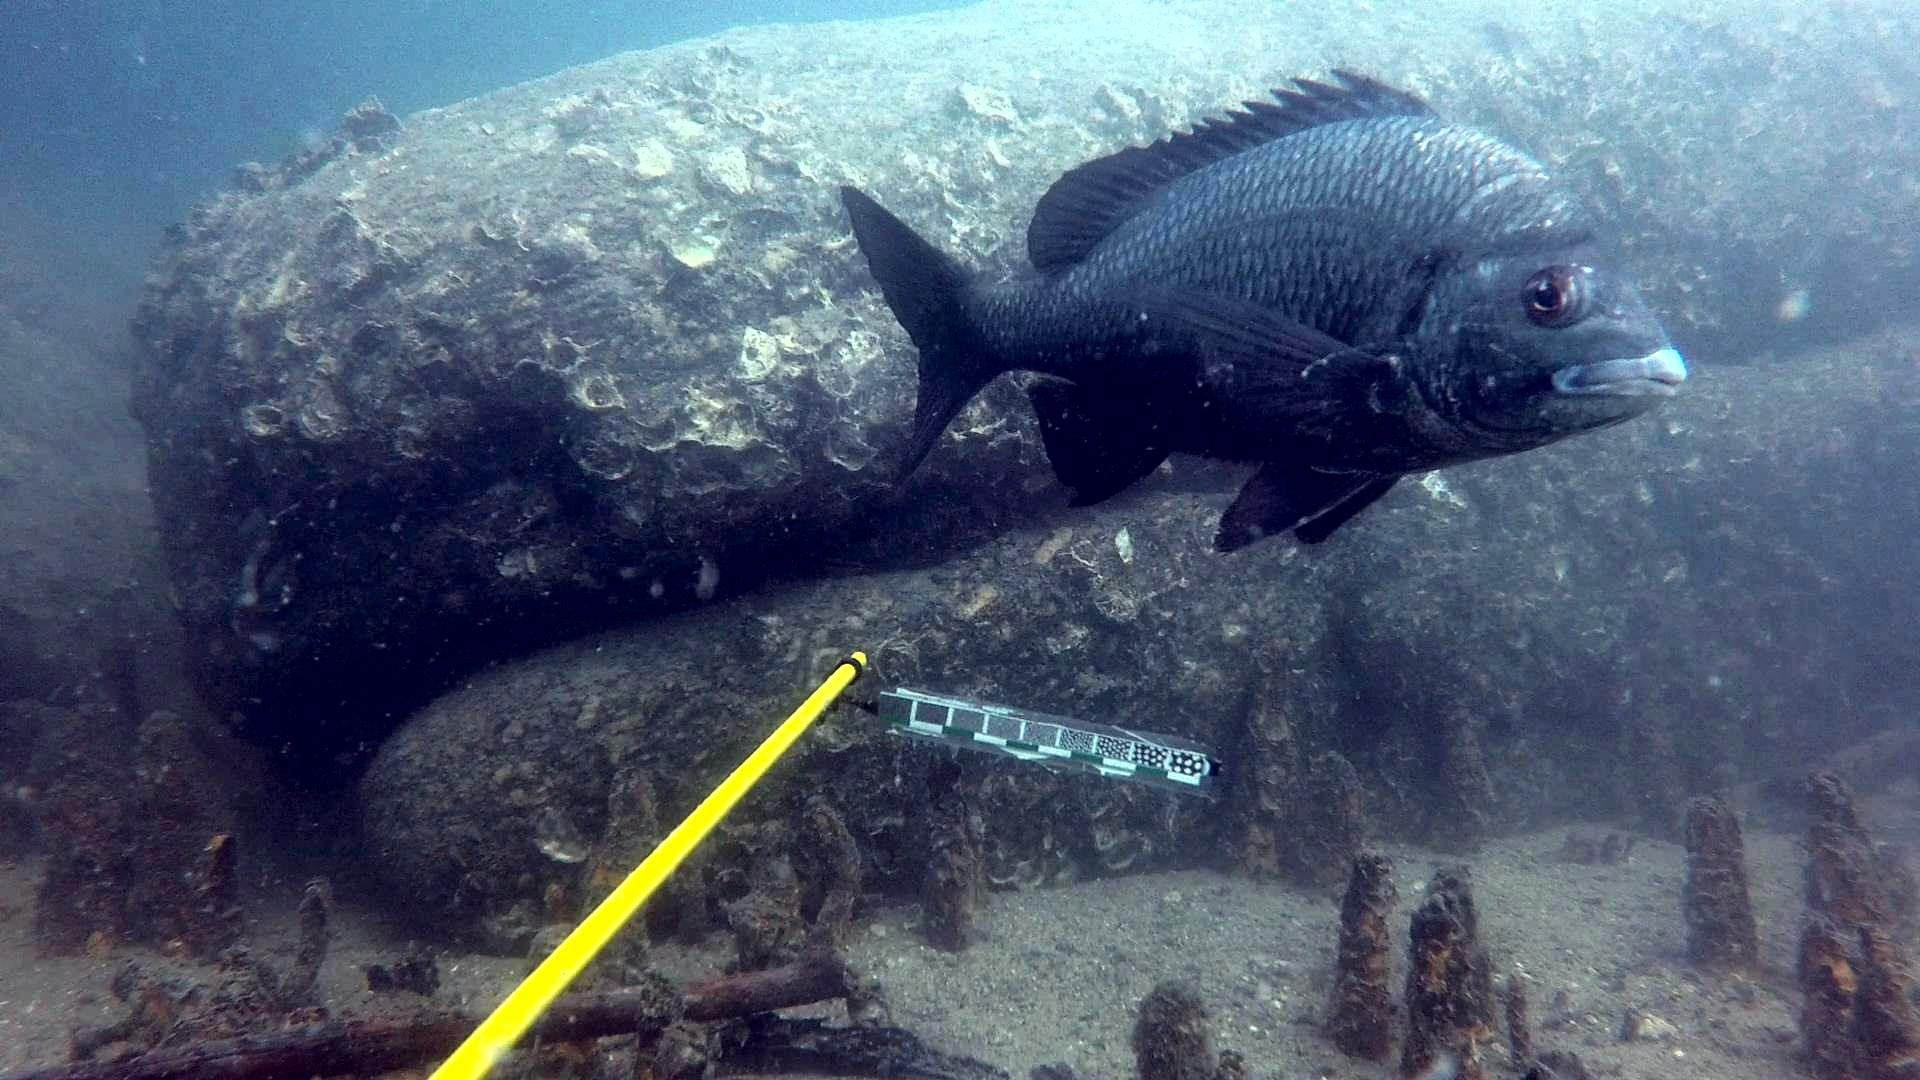acanthopagrus palmaris: (823, 66, 1693, 553)
